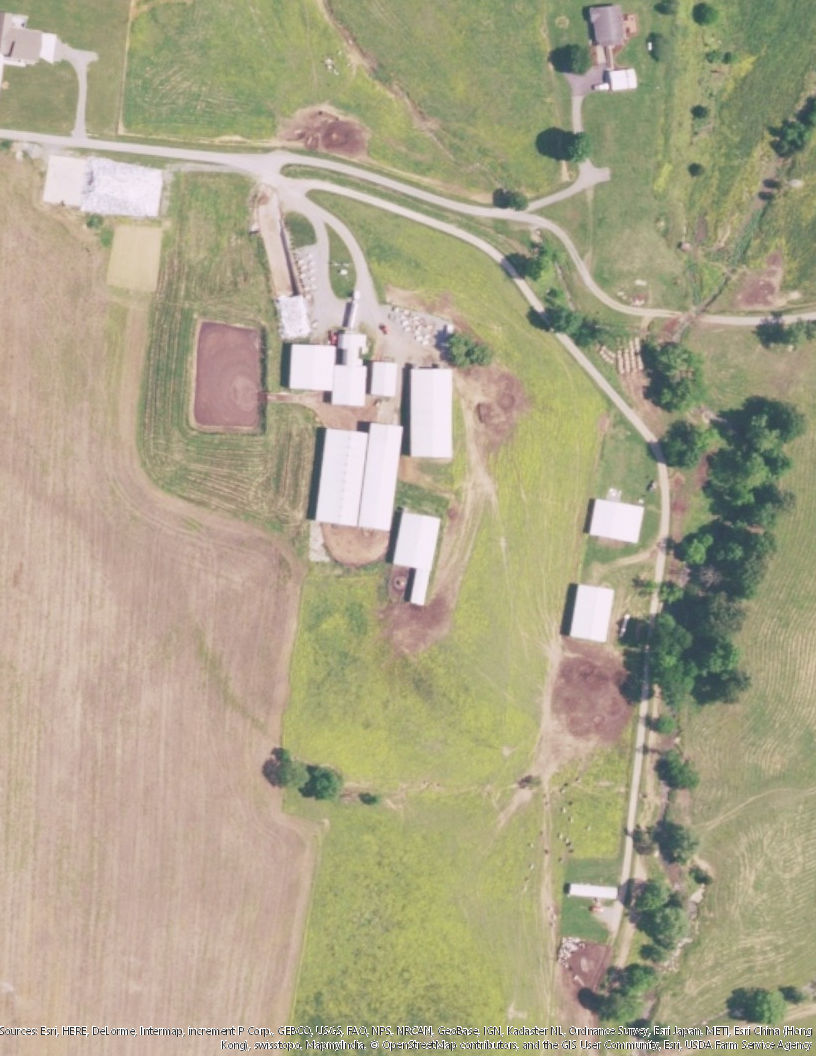cafo: (314, 414, 401, 537), (284, 331, 404, 413), (401, 364, 457, 461), (392, 508, 443, 612), (568, 580, 616, 643), (587, 493, 648, 541)
